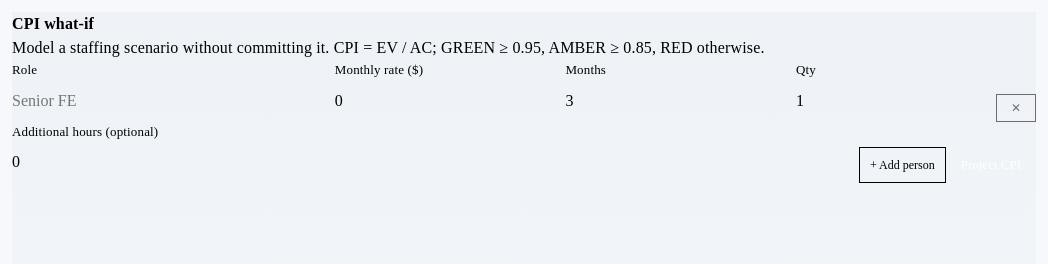
Test: CpiWhatIfCard (LEAN-P4-missing-7) › shows GREEN tone when projected CPI grade is GREEN
The image size is (1048, 264).
Click the button with test id "cpi-project-button": (991, 165) [946, 147, 1036, 183]
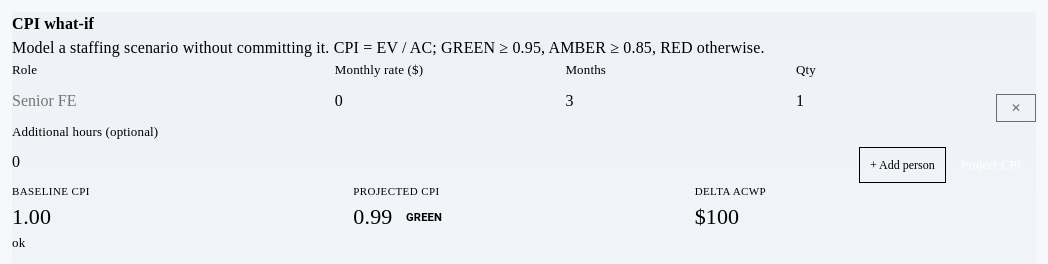
Check: the element with test id "cpi-projected-value" shows "GREEN", box [406, 211, 442, 224]
